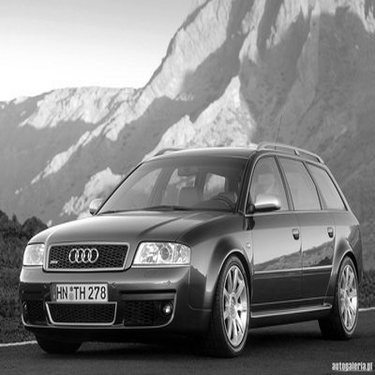car: (15, 140, 367, 356)
